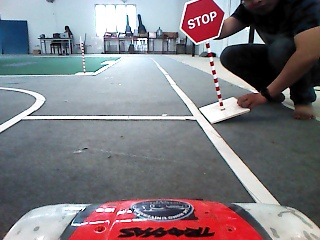stop: (176, 1, 226, 46)
